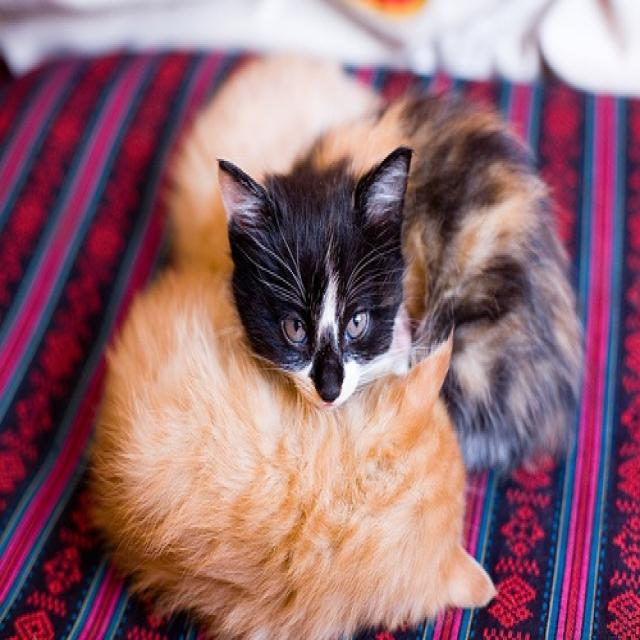cat: (92, 235, 495, 639), (218, 83, 588, 480)
